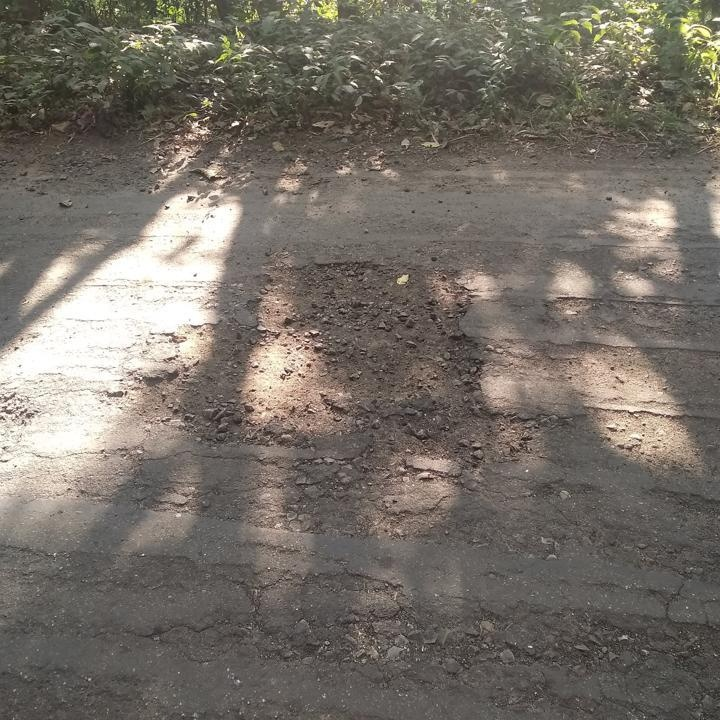pothole: (122, 255, 505, 480)
